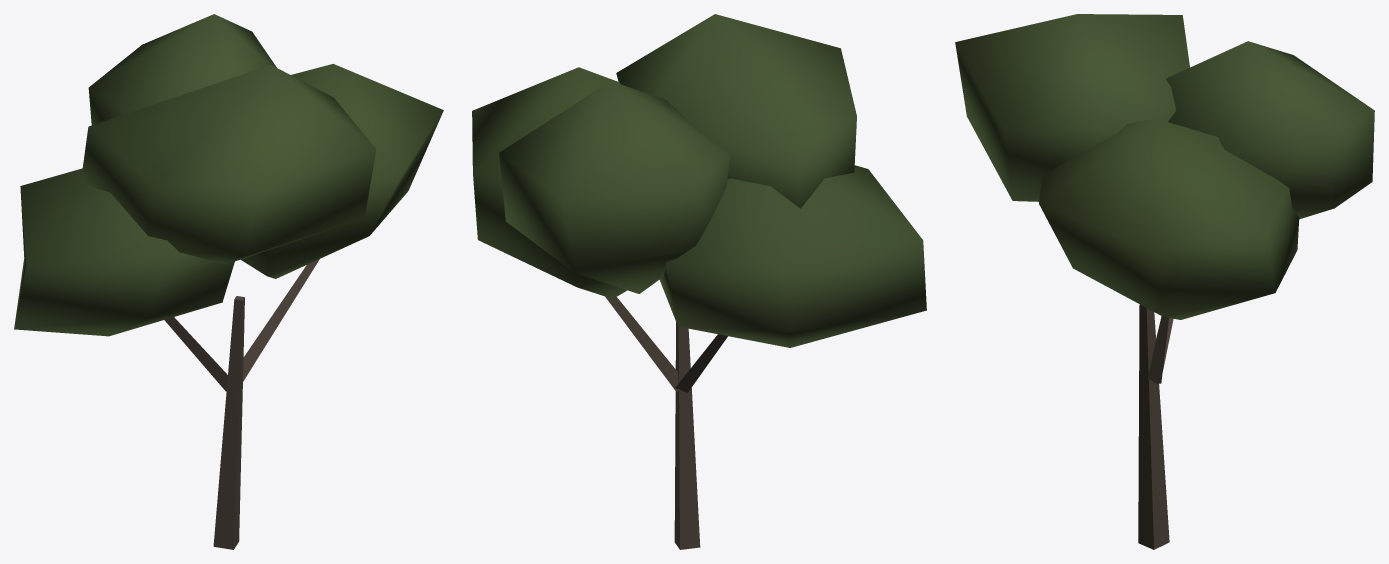
File: dense_rounded_lod0.glb
3 views of the same model, side by side, from view 1: azimuth 30°, elevation 25°; view 2: azimuth 150°, elevation 25°; view 3: azimuth 270°, elevation 25° (orthographic). The views are drawn at different scales.
Parts seen in each view (by area): view 1: dense_rounded_LOD0; view 2: dense_rounded_LOD0; view 3: dense_rounded_LOD0.
Boxes of the visible parts, left/top/right/bottom form: dense_rounded_LOD0: left=14, top=14, right=443, bottom=549; dense_rounded_LOD0: left=472, top=14, right=926, bottom=549; dense_rounded_LOD0: left=955, top=14, right=1374, bottom=549.
Size of the model in its own units: 8.28 by 9.01 by 6.42.
